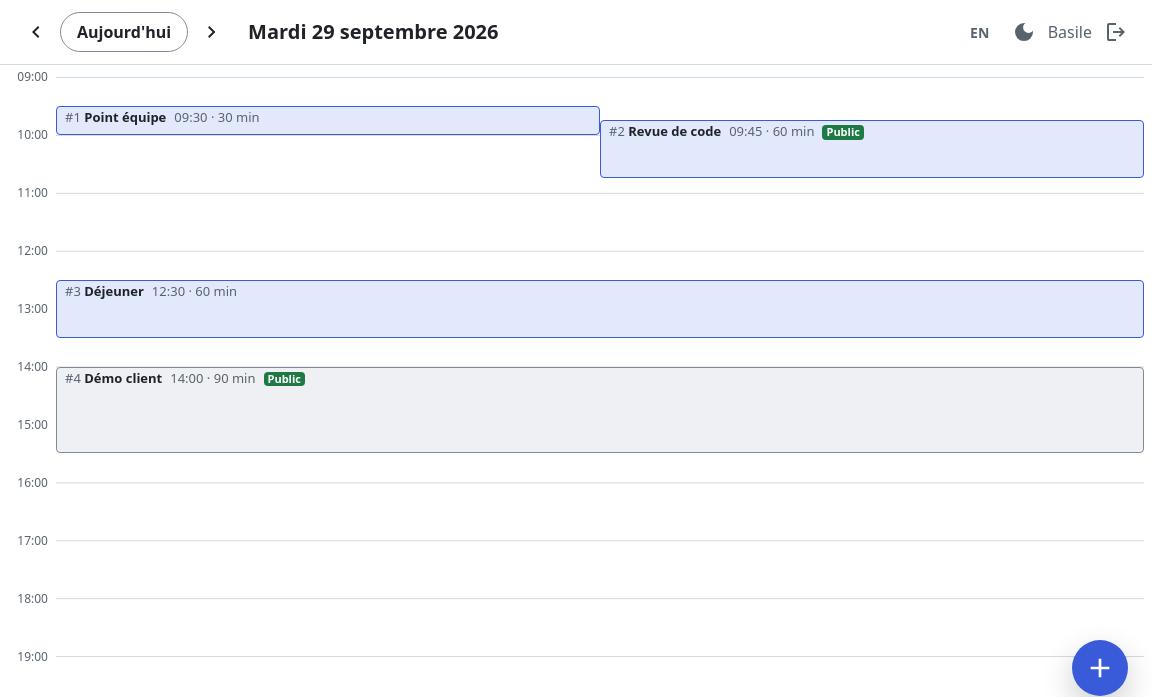
a mutation refused after leaving its day is still reported
Check: the heading "mardi 29 septembre 2026" is shown, box 248,20 -> 498,44
Click the button "#1 Point équipe 09:30 · 30 min" at {"x": 125, "y": 117}, box 56,106 -> 600,135
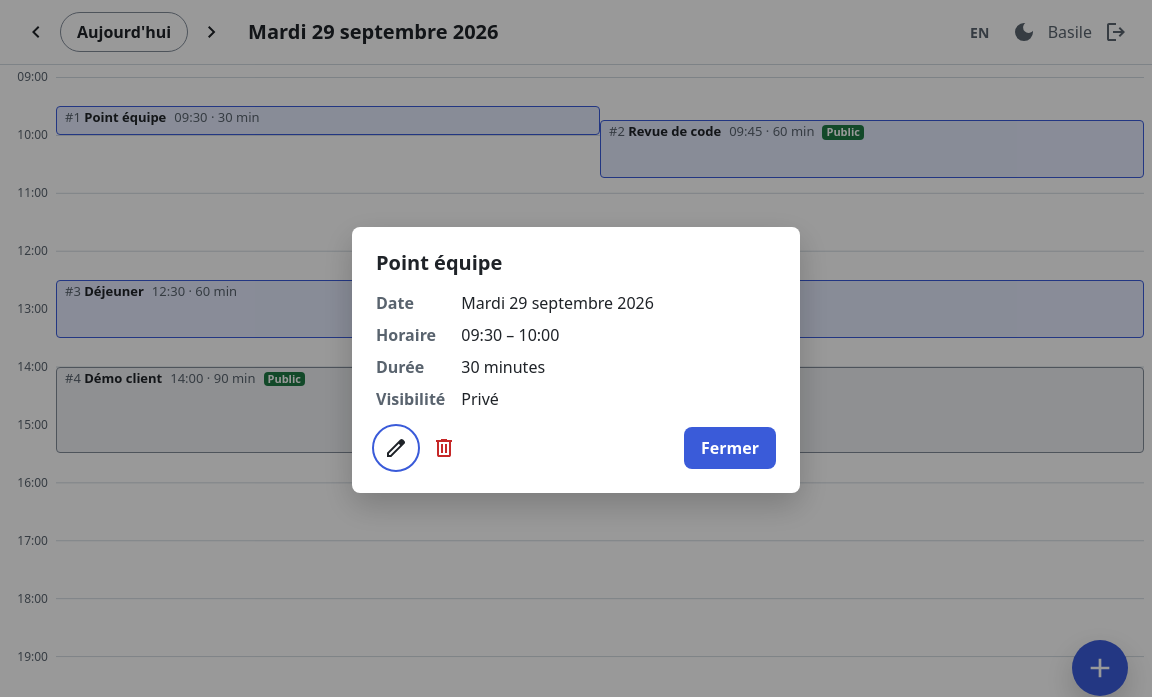
Click the button named "Supprimer" at {"x": 444, "y": 448}, box 424,428 -> 464,468
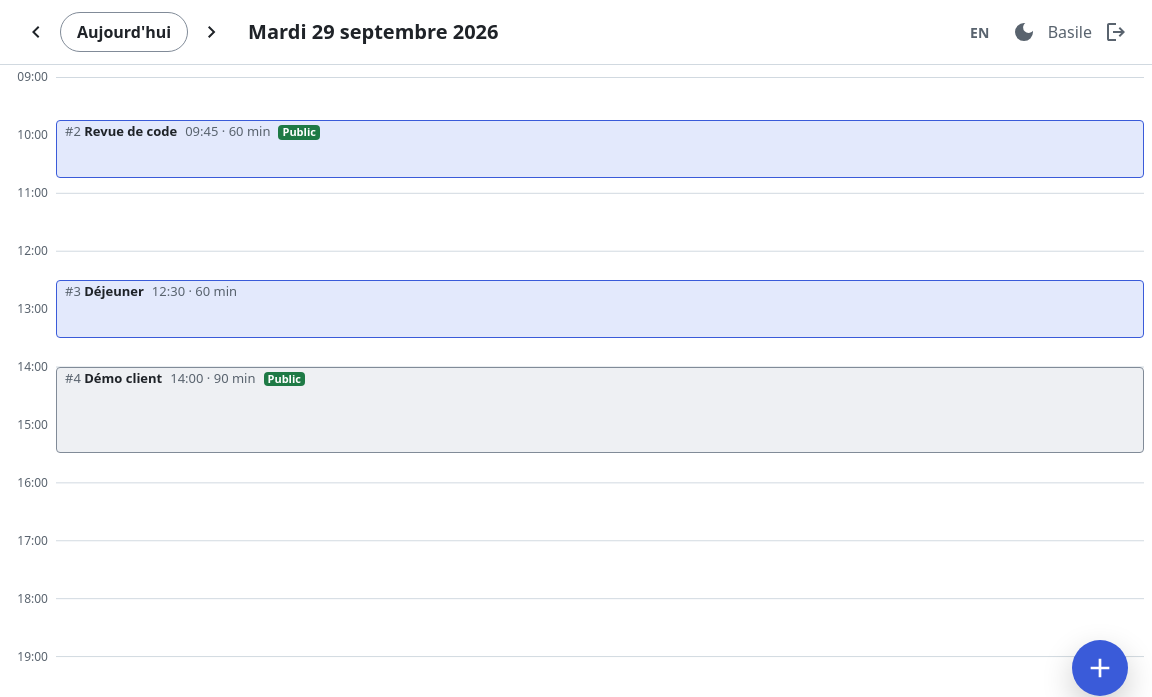
Click the link named "Jour suivant" at {"x": 212, "y": 32}, box 200,20 -> 224,44
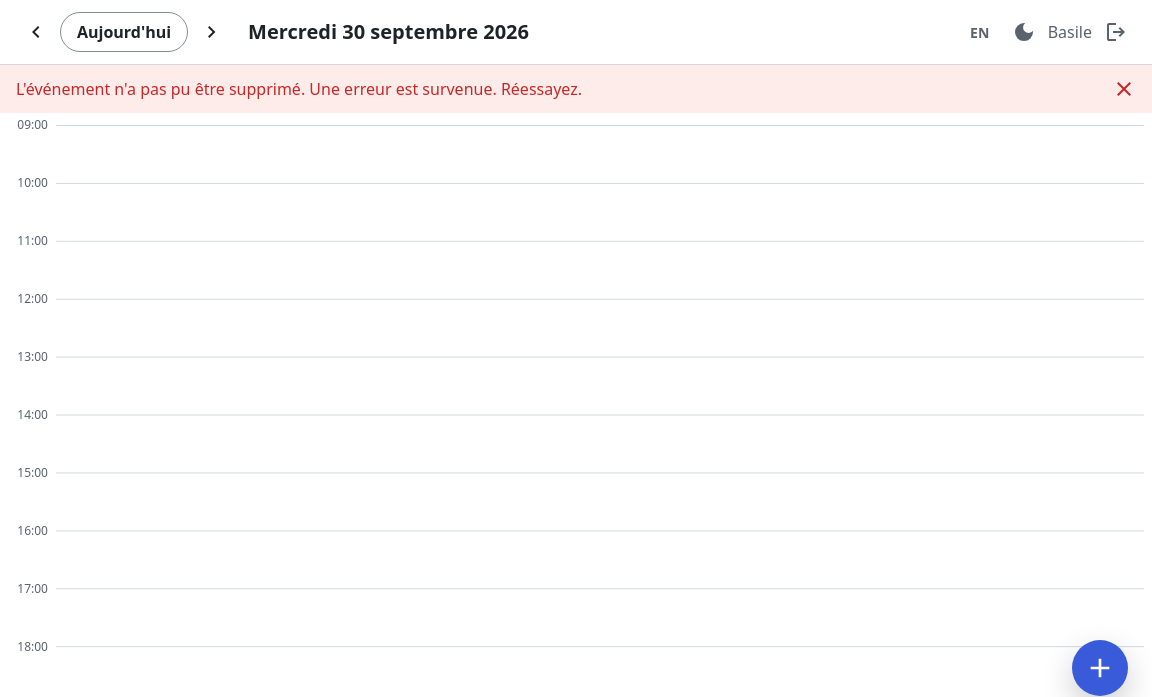
Check: the heading "mercredi 30 septembre 2026" is shown, box 248,20 -> 529,44
Check: the message reads "L'événement n'a pas pu être supprimé. Une erreur est survenue. Réessayez.", box 16,78 -> 582,100
